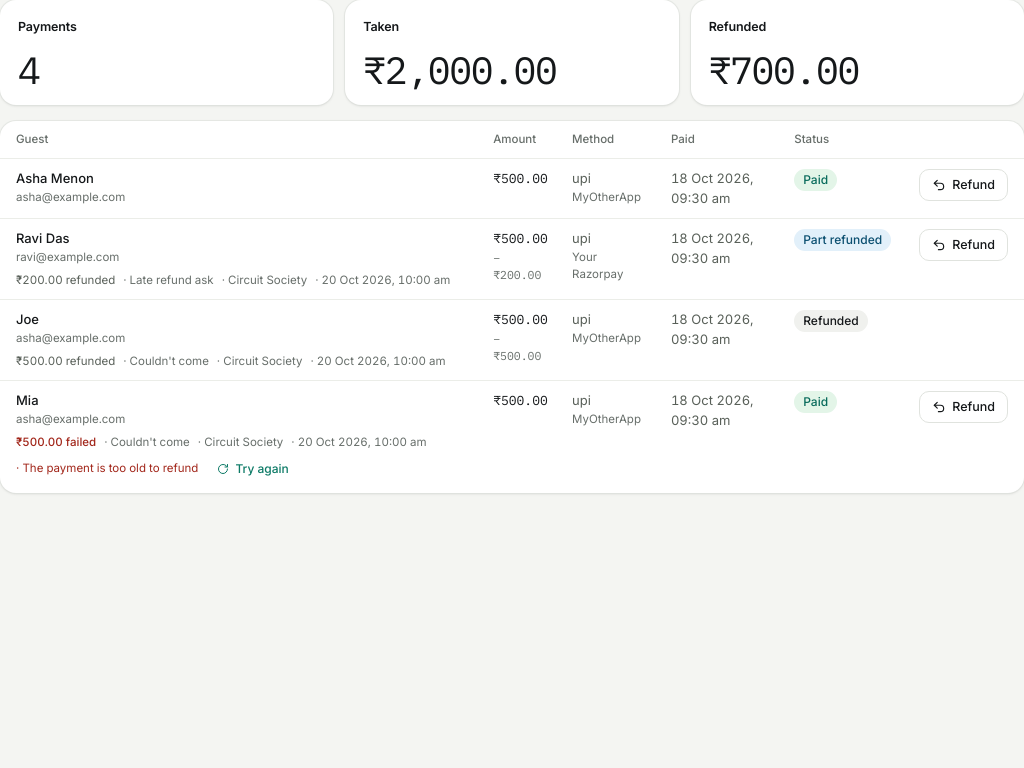
Scenario: the event's payments › asks for a reason first
Click the button with aria-label "Refund Asha Menon". click: point(964, 185)
box: [919, 169, 1008, 201]
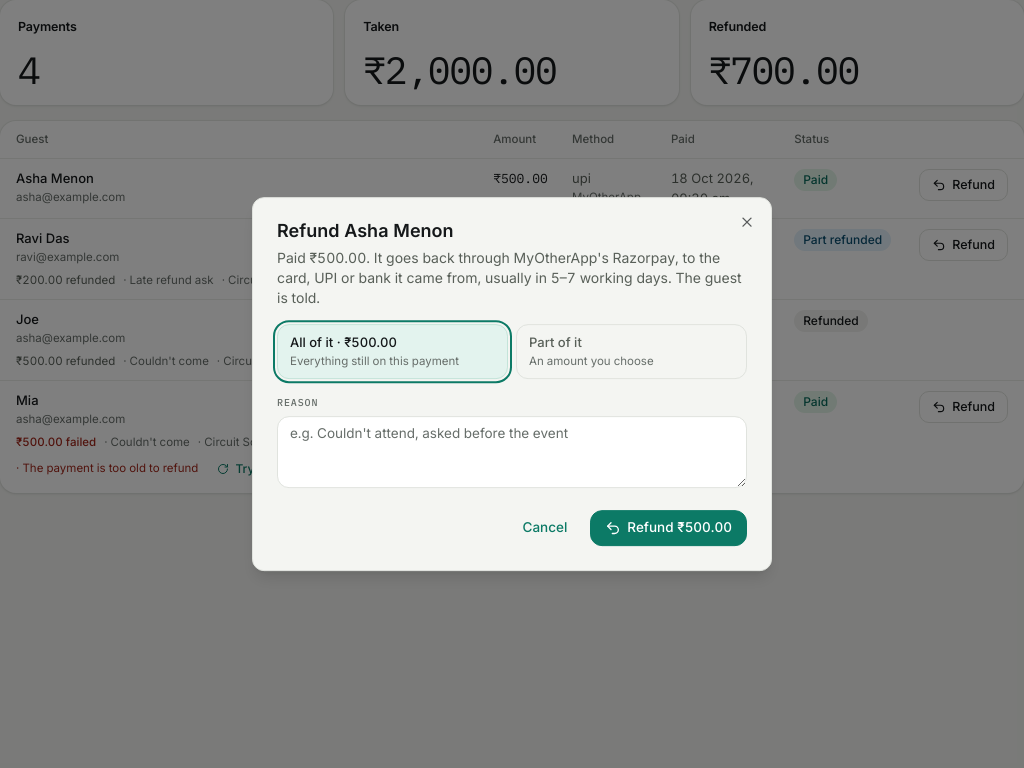
Click the button "Refund ₹500.00". click: point(669, 528)
box: [590, 510, 747, 546]
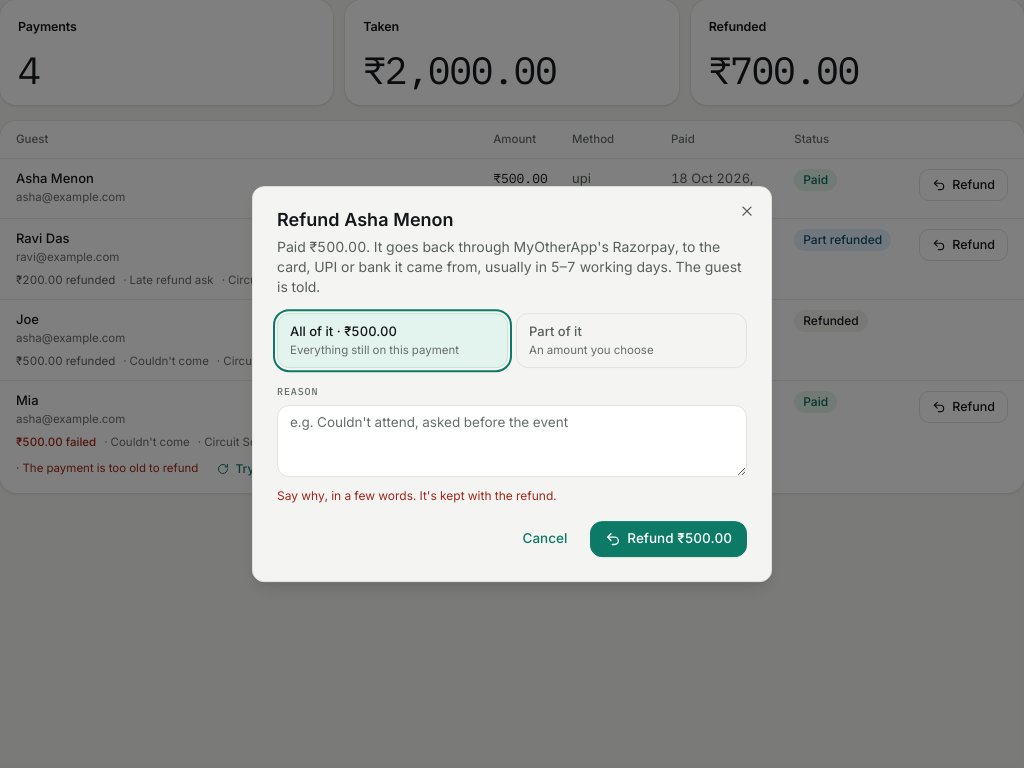
expect the text "Say why, in a few words. It's kept with the refund." is shown: met, box [277, 488, 556, 503]
